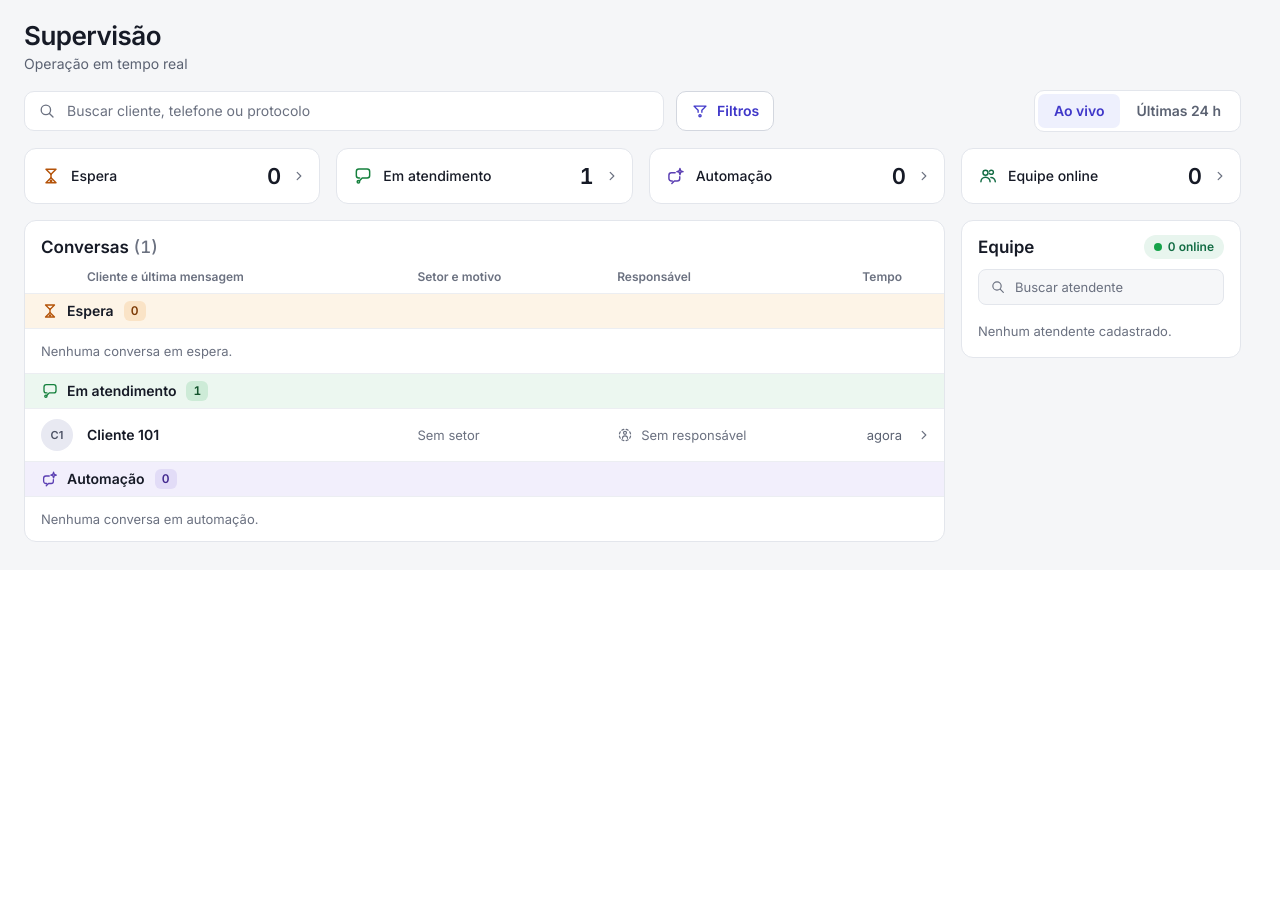
Scenario: Supervisão: pré-carga da conversa por intenção › com a conversa já baixada, o clique abre o popup no mesmo render
Click the button "C1 Cliente 101 Sem setor Sem responsável agora": coordinates (57, 435) [25, 409, 944, 461]
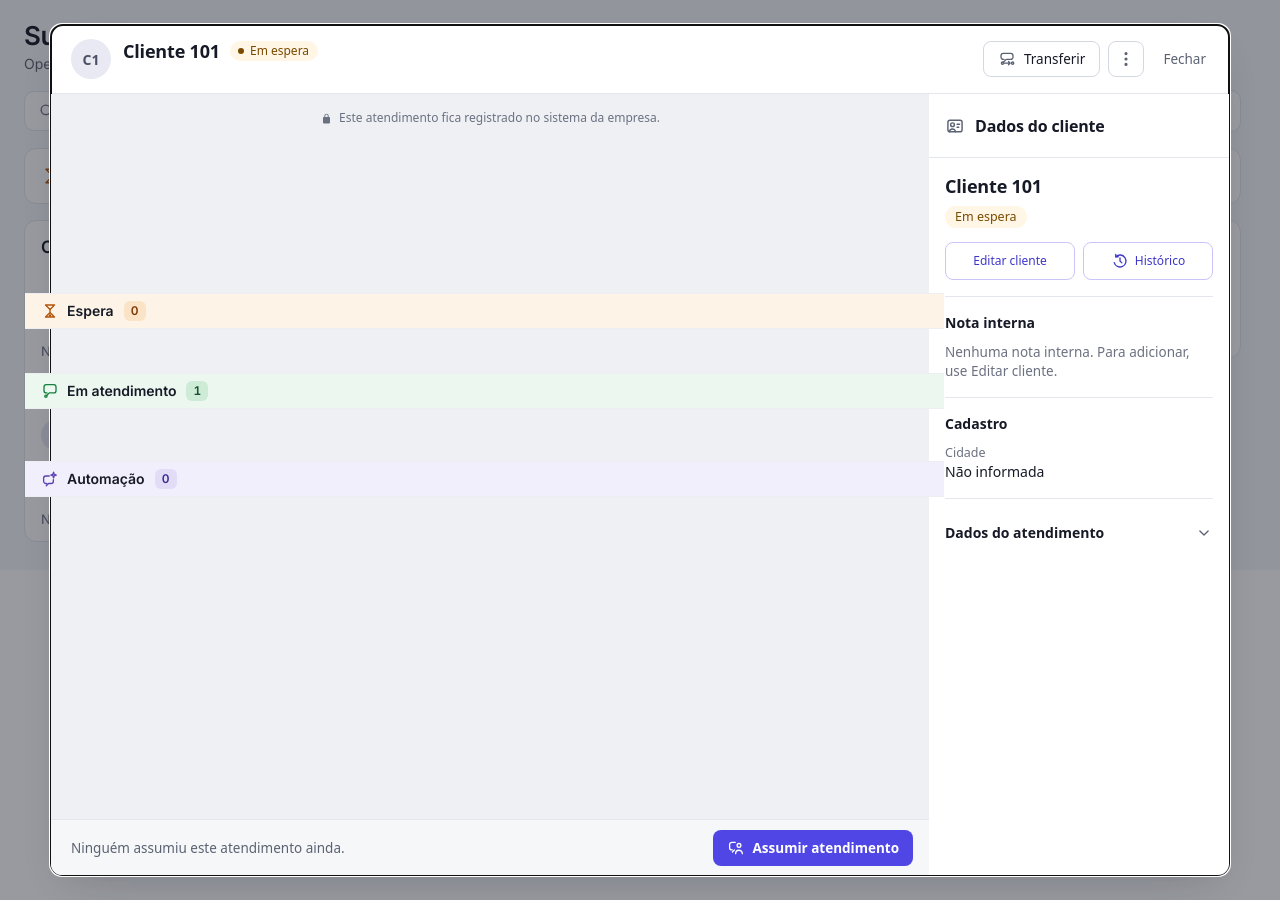
expect the dialog named "Conversa com" is shown: met
